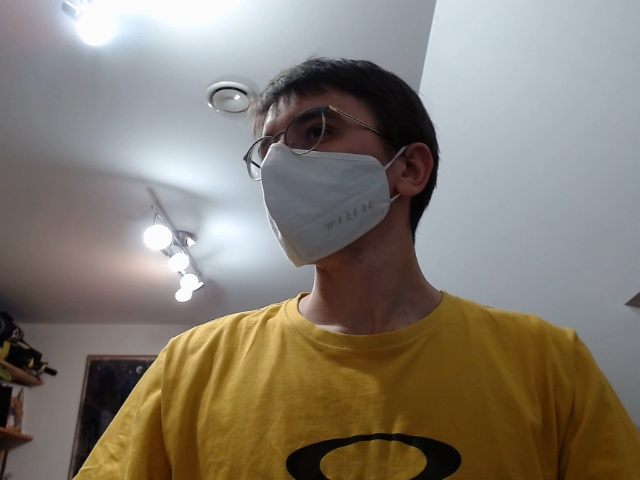CorrectMask: (244, 55, 445, 275)
